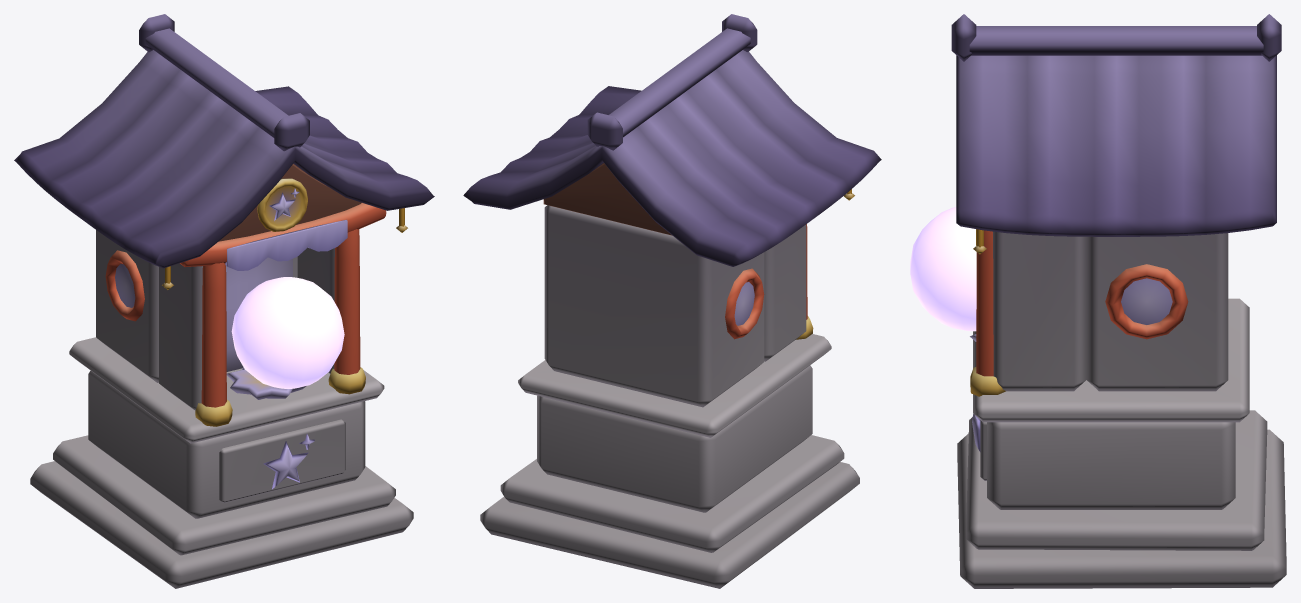
Rendered from shrine-sparkle.glb.
3 views of the same model, side by side, from view 1: azimuth 30°, elevation 25°; view 2: azimuth 150°, elevation 25°; view 3: azimuth 270°, elevation 25° (orthographic). The views are drawn at different scales.
Parts seen in each view (by area): view 1: base, orb; view 2: base; view 3: base, orb.
Boxes of the visible parts, x1=… form: base: x1=14, y1=14, x2=434, y2=588; orb: x1=231, y1=277, x2=344, y2=388; base: x1=463, y1=14, x2=881, y2=588; base: x1=951, y1=14, x2=1286, y2=588; orb: x1=910, y1=207, x2=976, y2=331.
Size of the model in its own units: 1.02 by 1.57 by 1.06.
